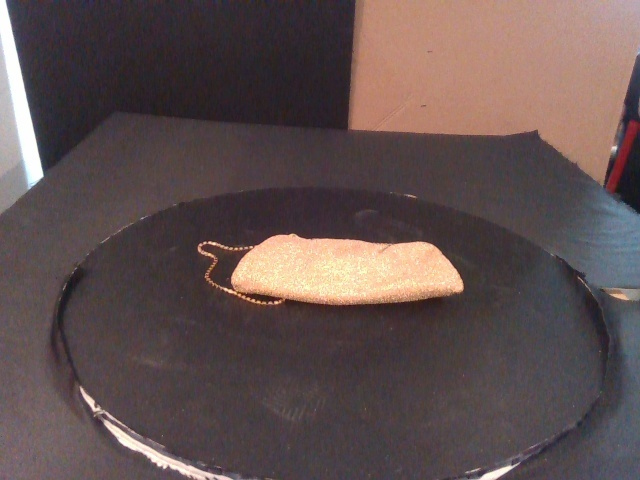bag: (228, 234, 465, 303)
